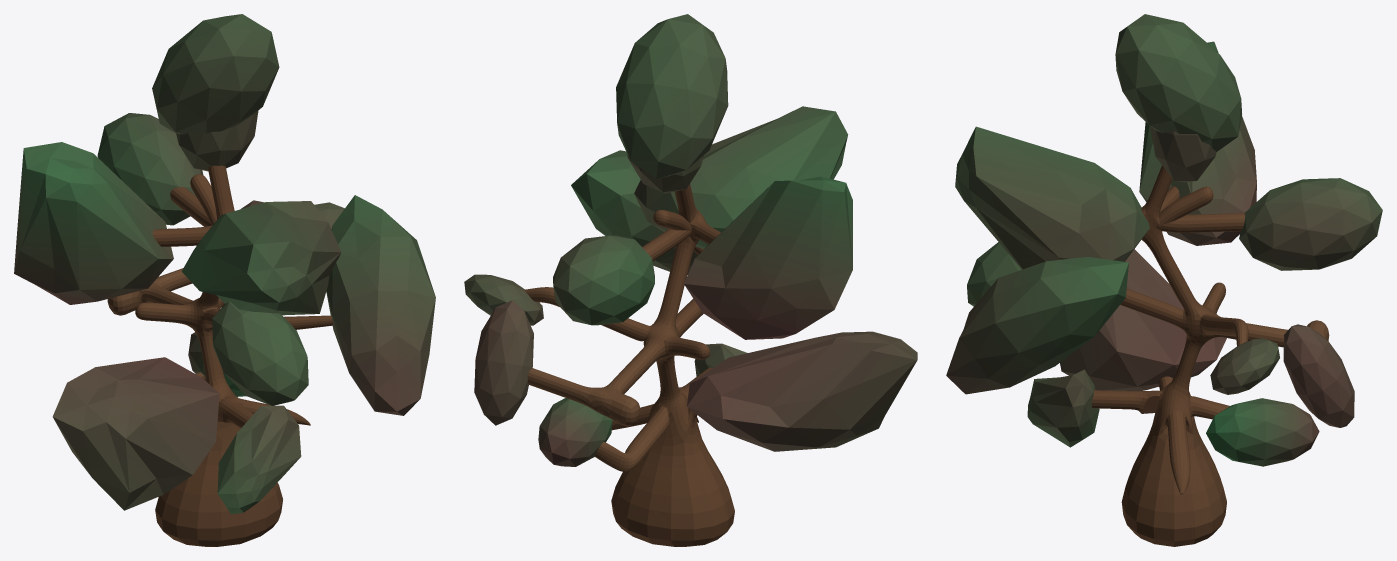
File: tree1.glb
The picture shows the model from 3 angles, left to right: view 1: azimuth 30°, elevation 25°; view 2: azimuth 150°, elevation 25°; view 3: azimuth 270°, elevation 25°; orthographic projection. The views are drawn at different scales.
Visible parts, largest first — view 1: Icosphere.006, Icosphere.009, Icosphere.011, Plane.003, Icosphere, Icosphere.002, Icosphere.010, Icosphere.003, Icosphere.008, Icosphere.001, Icosphere.007; view 2: Plane.003, Icosphere.006, Icosphere.009, Icosphere.002, Icosphere, Icosphere.003, Icosphere.004, Icosphere.011, Icosphere.007, Icosphere.005, Icosphere.001, Icosphere.008; view 3: Plane.003, Icosphere, Icosphere.011, Icosphere.002, Icosphere.003, Icosphere.009, Icosphere.007, Icosphere.006, Icosphere.004, Icosphere.008, Icosphere.005, Icosphere.001 (+1 smaller).
Part boxes in pixels (box(x1,y1,x2,y2)): Icosphere.006: box(14, 142, 173, 304); Icosphere.009: box(52, 357, 219, 510); Icosphere.011: box(326, 195, 435, 415); Plane.003: box(107, 165, 333, 546); Icosphere: box(181, 201, 341, 315); Icosphere.002: box(152, 14, 279, 134); Icosphere.010: box(212, 302, 308, 405); Icosphere.003: box(97, 113, 203, 225); Icosphere.008: box(217, 405, 301, 514); Icosphere.001: box(176, 110, 258, 171); Icosphere.007: box(188, 332, 246, 396); Plane.003: box(524, 184, 734, 546); Icosphere.006: box(684, 176, 852, 339); Icosphere.009: box(687, 331, 917, 451); Icosphere.002: box(616, 14, 728, 179); Icosphere: box(634, 106, 848, 248); Icosphere.003: box(553, 235, 654, 325); Icosphere.004: box(474, 300, 533, 425); Icosphere.011: box(571, 150, 697, 274); Icosphere.007: box(538, 398, 612, 466); Icosphere.005: box(464, 274, 543, 325); Icosphere.001: box(627, 153, 703, 193); Icosphere.008: box(694, 343, 747, 376); Plane.003: box(1091, 165, 1329, 546); Icosphere: box(955, 126, 1149, 269); Icosphere.011: box(946, 257, 1128, 394); Icosphere.002: box(1115, 14, 1241, 152); Icosphere.003: box(1239, 178, 1382, 270); Icosphere.009: box(1060, 249, 1226, 390); Icosphere.007: box(1206, 398, 1319, 466); Icosphere.006: box(1139, 41, 1256, 245); Icosphere.004: box(1283, 324, 1354, 427); Icosphere.008: box(1027, 369, 1099, 447); Icosphere.005: box(1210, 338, 1279, 394); Icosphere.001: box(1150, 126, 1216, 182).
Size of the model in its own units: 1.27 by 1.65 by 1.27.
2 materials, 2 textured.
